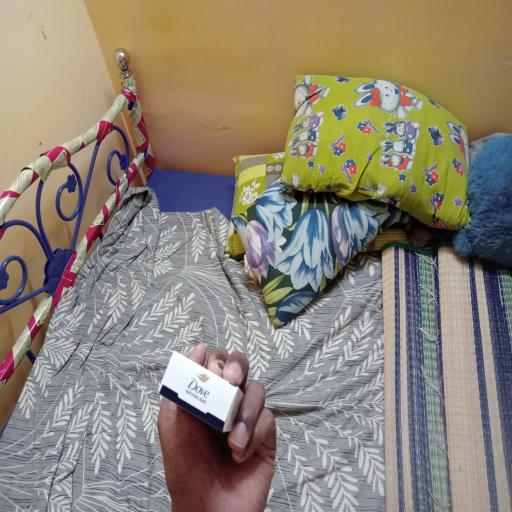Dove`1: (149, 349, 255, 439)
